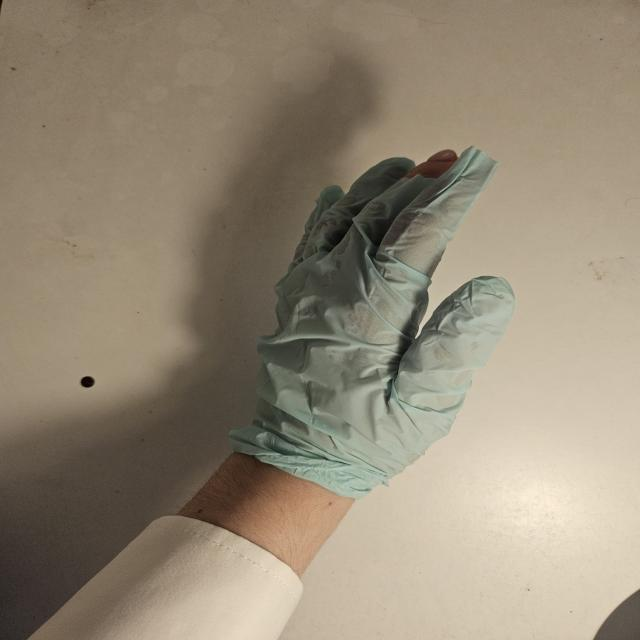gloves_damaged: (228, 145, 518, 500)
